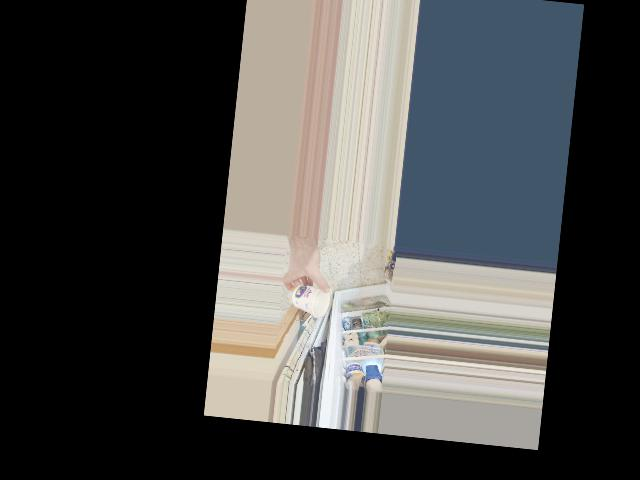cotage: (290, 280, 330, 317)
